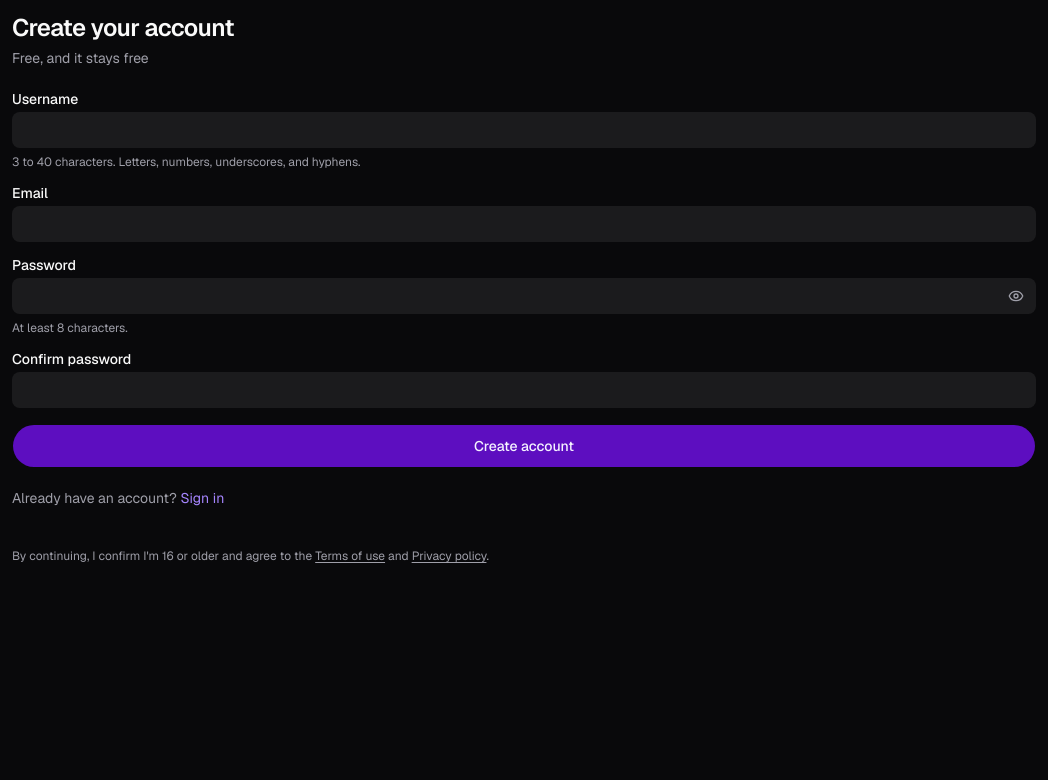
AuthForm › reports every empty required field at once on submit
Click the button "Create account" at (524, 446), box x1=12 y1=424 x2=1036 y2=468
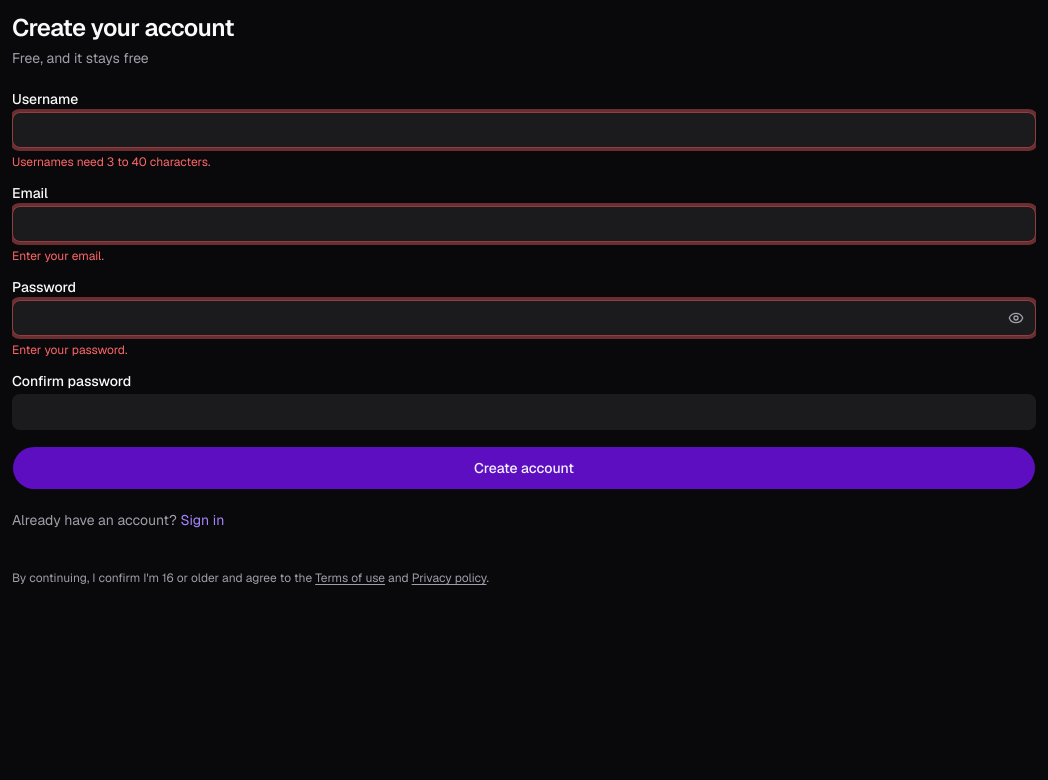
Expected: the text "Usernames need 3 to 40 characters." is shown, x1=12 y1=154 x2=210 y2=170
Expected: the text "Enter your email." is shown, x1=12 y1=248 x2=104 y2=264
Expected: the text "Enter your password." is shown, x1=12 y1=342 x2=127 y2=358
